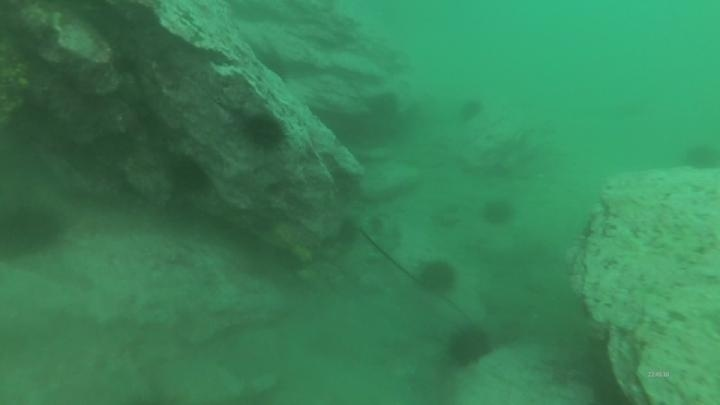echinus: (1, 200, 65, 260), (444, 323, 494, 369), (165, 152, 212, 196), (241, 111, 288, 153), (415, 257, 459, 297), (681, 141, 719, 174), (480, 196, 517, 229), (457, 96, 486, 124)
